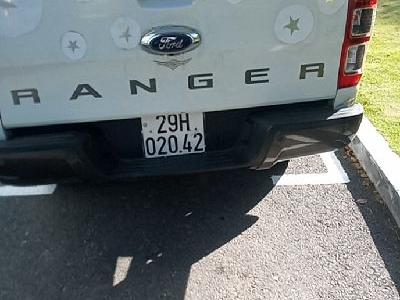lisence: (139, 112, 208, 160)
